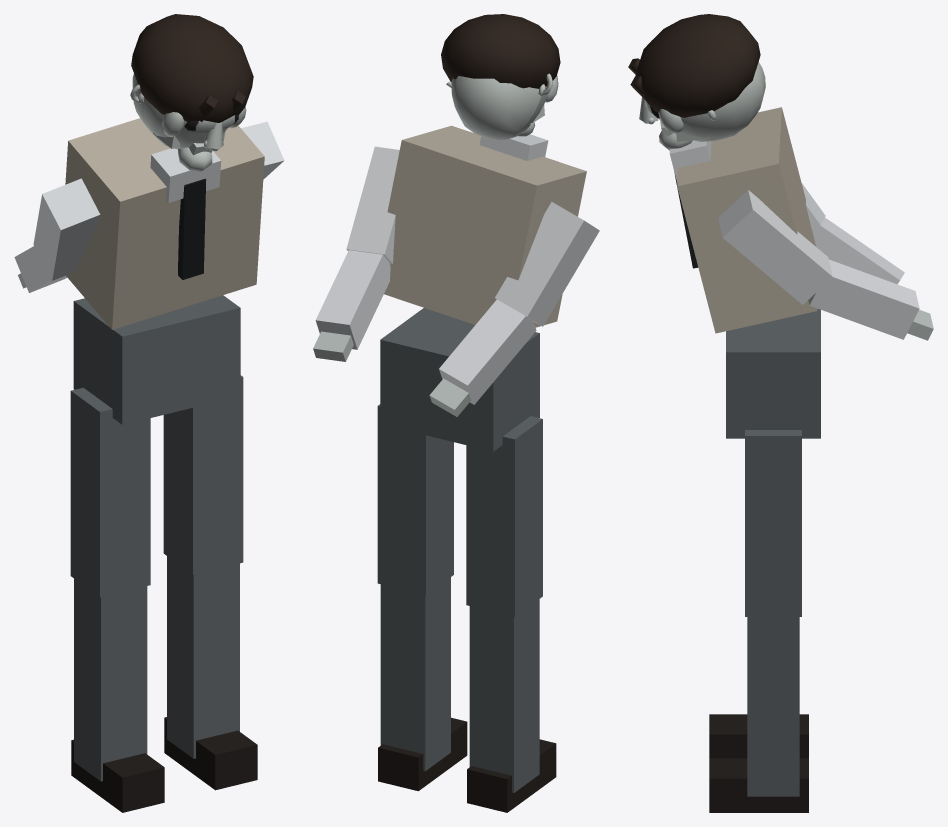
File: zombie_male_vest.glb
3 renders of one model, left to right at view 1: azimuth 30°, elevation 25°; view 2: azimuth 150°, elevation 25°; view 3: azimuth 270°, elevation 25°, orthographic. The views are drawn at different scales.
Parts seen in each view (by area): view 1: chest, lShin, pelvis, rShin, lLeg, rLeg, hair, lArm, cranium, head, lFore, rArm (+1 smaller); view 2: chest, rShin, lShin, lLeg, pelvis, rLeg, hair, lArm, lFore, rFore, cranium, rArm; view 3: chest, rShin, pelvis, rLeg, hair, rArm, rFore, cranium, lFore, lShin, head.
Boxes of the visible parts, box(x1,y1,x2,y2) form: chest: box(65, 118, 264, 329); lShin: box(71, 579, 164, 812); pelvis: box(73, 295, 240, 424); rShin: box(164, 556, 257, 790); lLeg: box(70, 387, 150, 597); rLeg: box(163, 375, 243, 574); hair: box(131, 14, 253, 122); lArm: box(33, 178, 100, 280); cranium: box(132, 74, 234, 149); head: box(130, 84, 246, 152); lFore: box(14, 246, 66, 292); rArm: box(241, 121, 284, 179); chest: box(384, 125, 586, 327); rShin: box(378, 577, 467, 791); lShin: box(467, 599, 556, 812); lLeg: box(466, 416, 542, 616); pelvis: box(380, 308, 539, 451); rLeg: box(377, 404, 453, 595); hair: box(441, 14, 560, 88); lArm: box(495, 202, 599, 326); lFore: box(429, 299, 536, 416); rFore: box(313, 250, 390, 361); cranium: box(451, 76, 547, 139); rArm: box(346, 146, 399, 264); chest: box(669, 107, 817, 333); rShin: box(709, 617, 808, 812); pelvis: box(726, 308, 820, 438); rLeg: box(745, 430, 801, 616); hair: box(628, 14, 760, 117); rArm: box(718, 190, 832, 304); rFore: box(808, 259, 933, 340); cranium: box(644, 62, 765, 141); lFore: box(812, 217, 904, 284); lShin: box(709, 714, 808, 758); head: box(639, 97, 716, 133).
Size of the model in its own units: 0.5407 by 1.79 by 0.6561.
